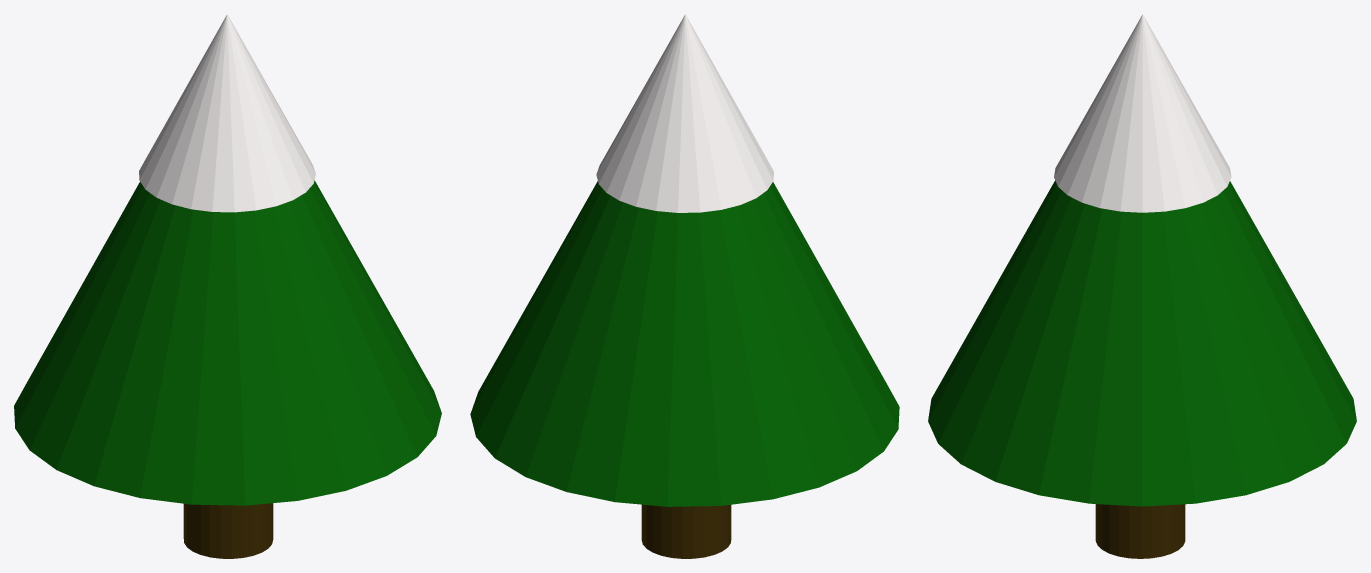
Rendered from elka2.fbx.
3 renders of one model, left to right at view 1: azimuth 30°, elevation 25°; view 2: azimuth 150°, elevation 25°; view 3: azimuth 270°, elevation 25°, orthographic.
Visible parts, largest first — view 1: Cone, Cone_1, Cylinder_3; view 2: Cone, Cone_1, Cylinder_3; view 3: Cone, Cone_1, Cylinder_3.
Boxes of the visible parts, x1,y1,x2,y2 form: Cone: (14, 180, 441, 505); Cone_1: (139, 14, 315, 212); Cylinder_3: (183, 503, 273, 558); Cone: (470, 181, 899, 506); Cone_1: (596, 14, 773, 212); Cylinder_3: (641, 504, 731, 558); Cone: (928, 180, 1356, 506); Cone_1: (1054, 14, 1231, 212); Cylinder_3: (1095, 504, 1185, 558).
Bounding box in the file's own units: 199 × 270 × 200.
